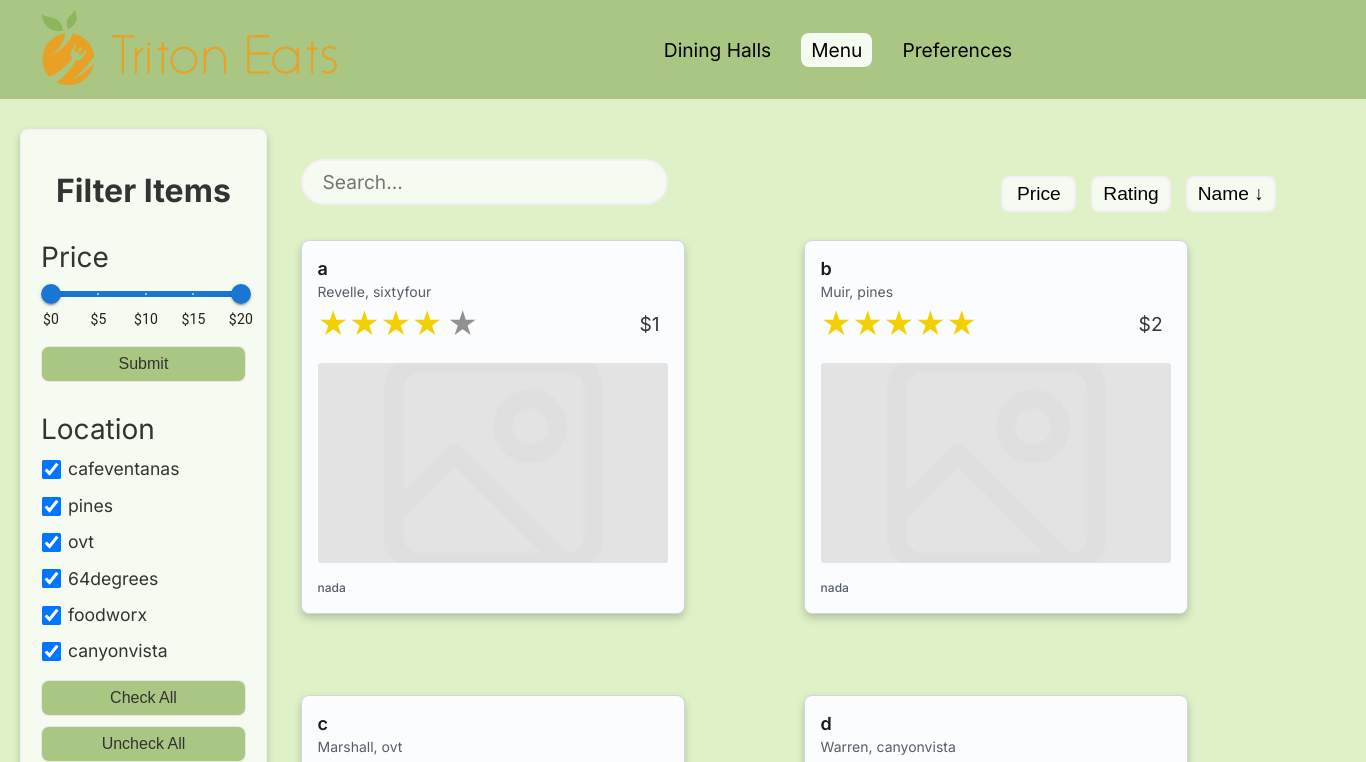
Test: Menu Searching › Search blabla works
This screenshot has width=1366, height=762.
Expected: the element with test id "dish-0" is shown, [300,240,684,614]
# change content in searchBar
Type "blabla" into the field with placeholder "Search..." at (484, 182), box [300,159,668,205]
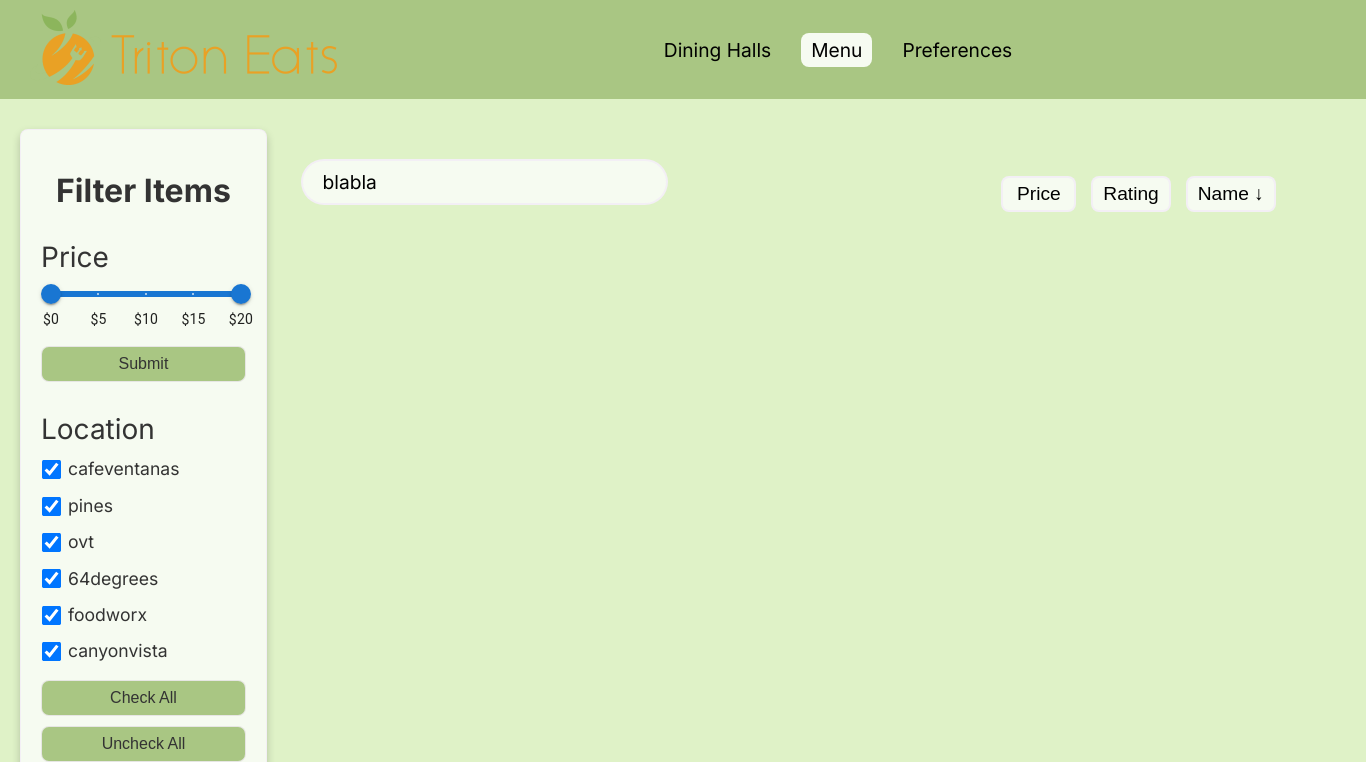
Expected: the element with test id "dish-0" is gone
Expected: the element with test id "dish-1" is gone
